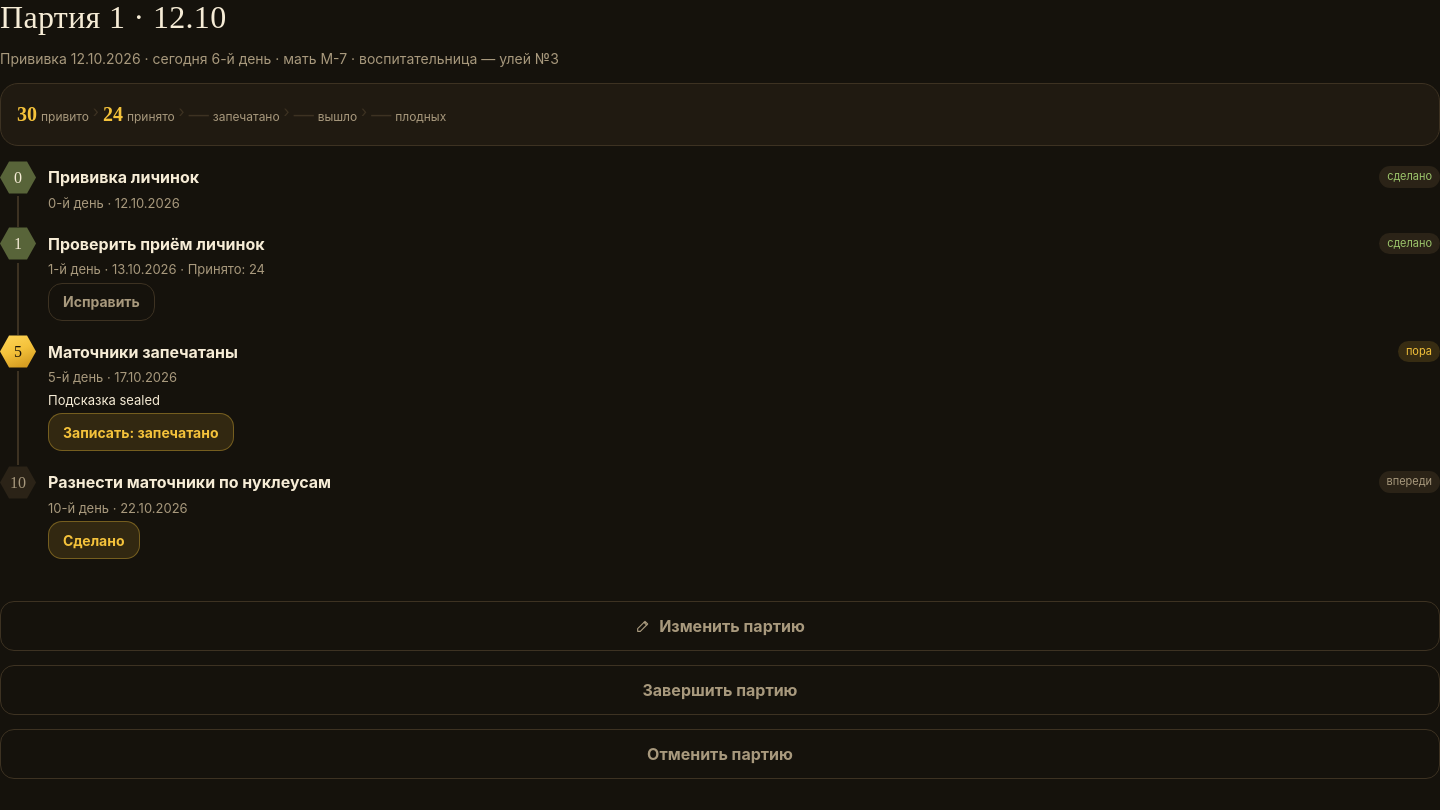
Queen rearing › records the count of a step
Later steps or results of the test are not shown.
Check: the text "сегодня 6-й день" is shown, box [141,50,271,67]
Check: the text "Подсказка sealed" is shown, box [48,391,160,409]
Click the button "Записать: запечатано". click: [141, 432]
box: [48,413,234,451]
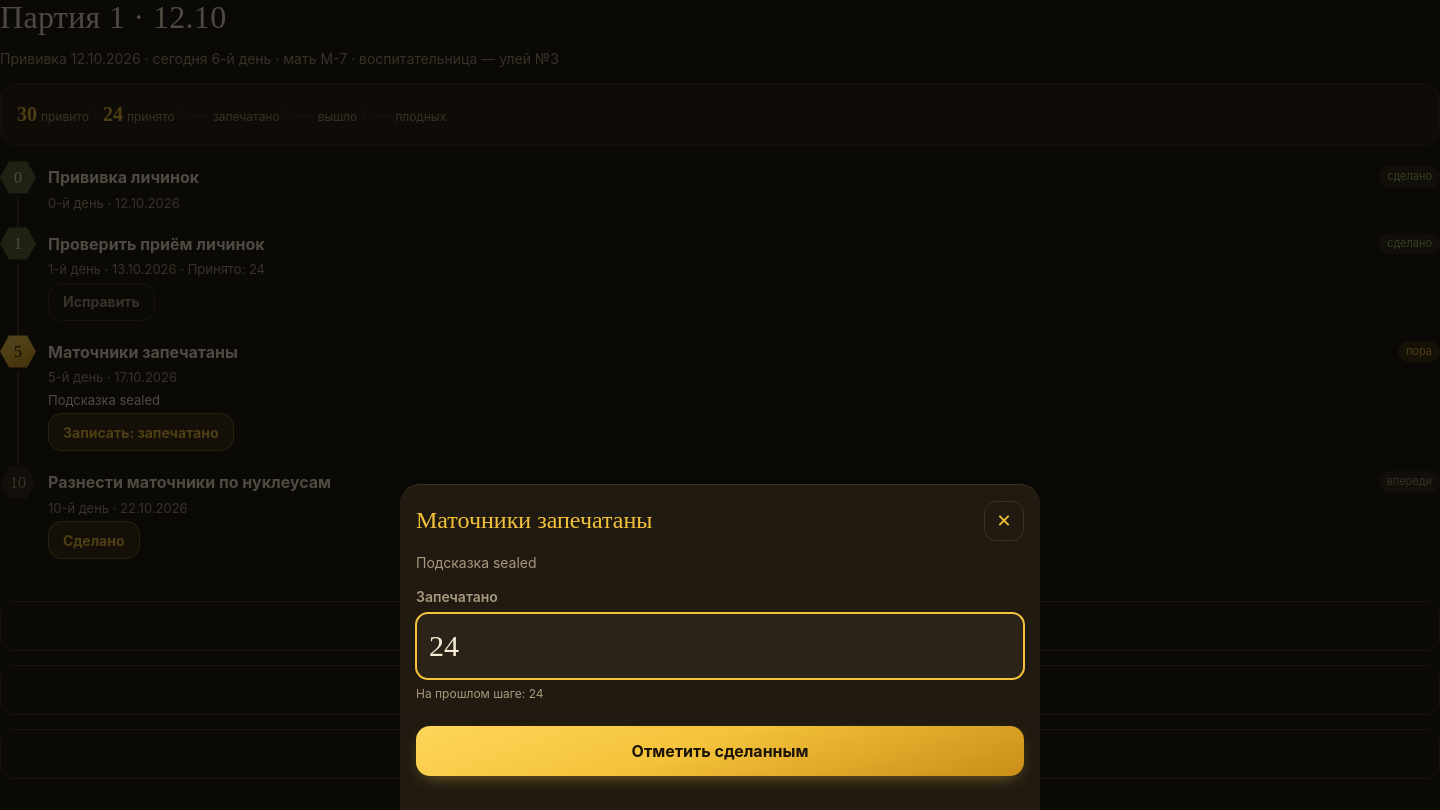
Check: the field labelled "Запечатано На прошлом шаге: 24" holds "24", box [416,613,1024,679]
